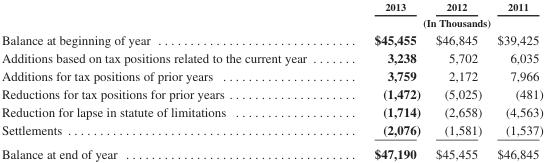table: (0, 0, 542, 160)
table column: (0, 0, 339, 160), (339, 0, 427, 160), (427, 0, 488, 160), (488, 0, 542, 160)
table column header: (0, 0, 542, 29)
table row: (0, 120, 542, 141), (0, 29, 542, 48), (0, 141, 542, 160), (0, 48, 542, 66), (0, 66, 542, 84), (0, 84, 542, 102), (0, 102, 542, 120), (0, 14, 542, 29), (0, 0, 542, 14)
table spanning cell: (339, 14, 542, 29)
